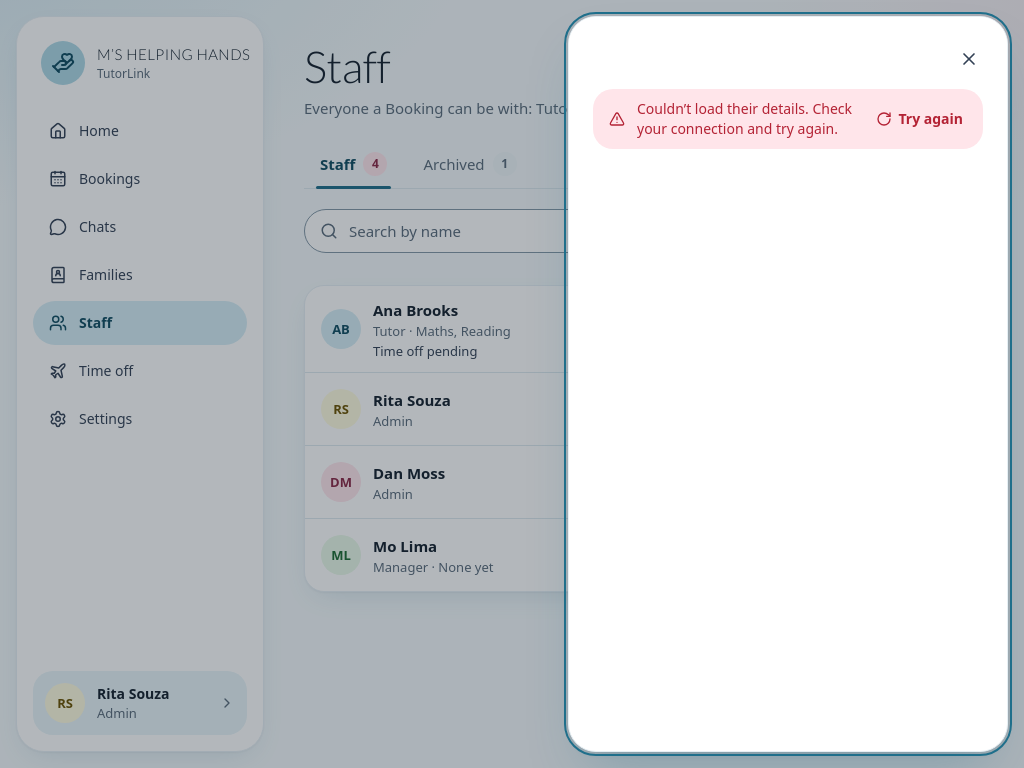
Staff details at 1280 › offers Try again inline when they fail to load
The width and height of the screenshot is (1024, 768).
What coordinates should you click on to do the following:
click the button "Try again"
I would click on:
 (920, 119)
Its box is top-left (864, 97), bottom-right (975, 141).
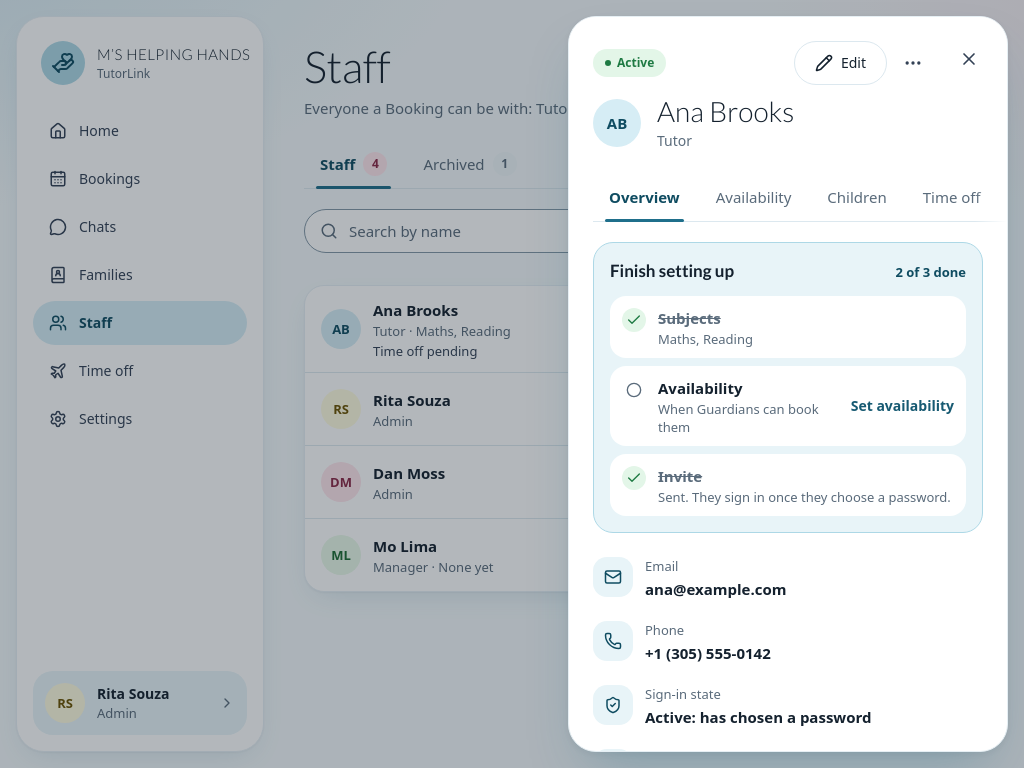
Expected: the heading "Ana Brooks" is shown, top-left (657, 93), bottom-right (794, 129)
